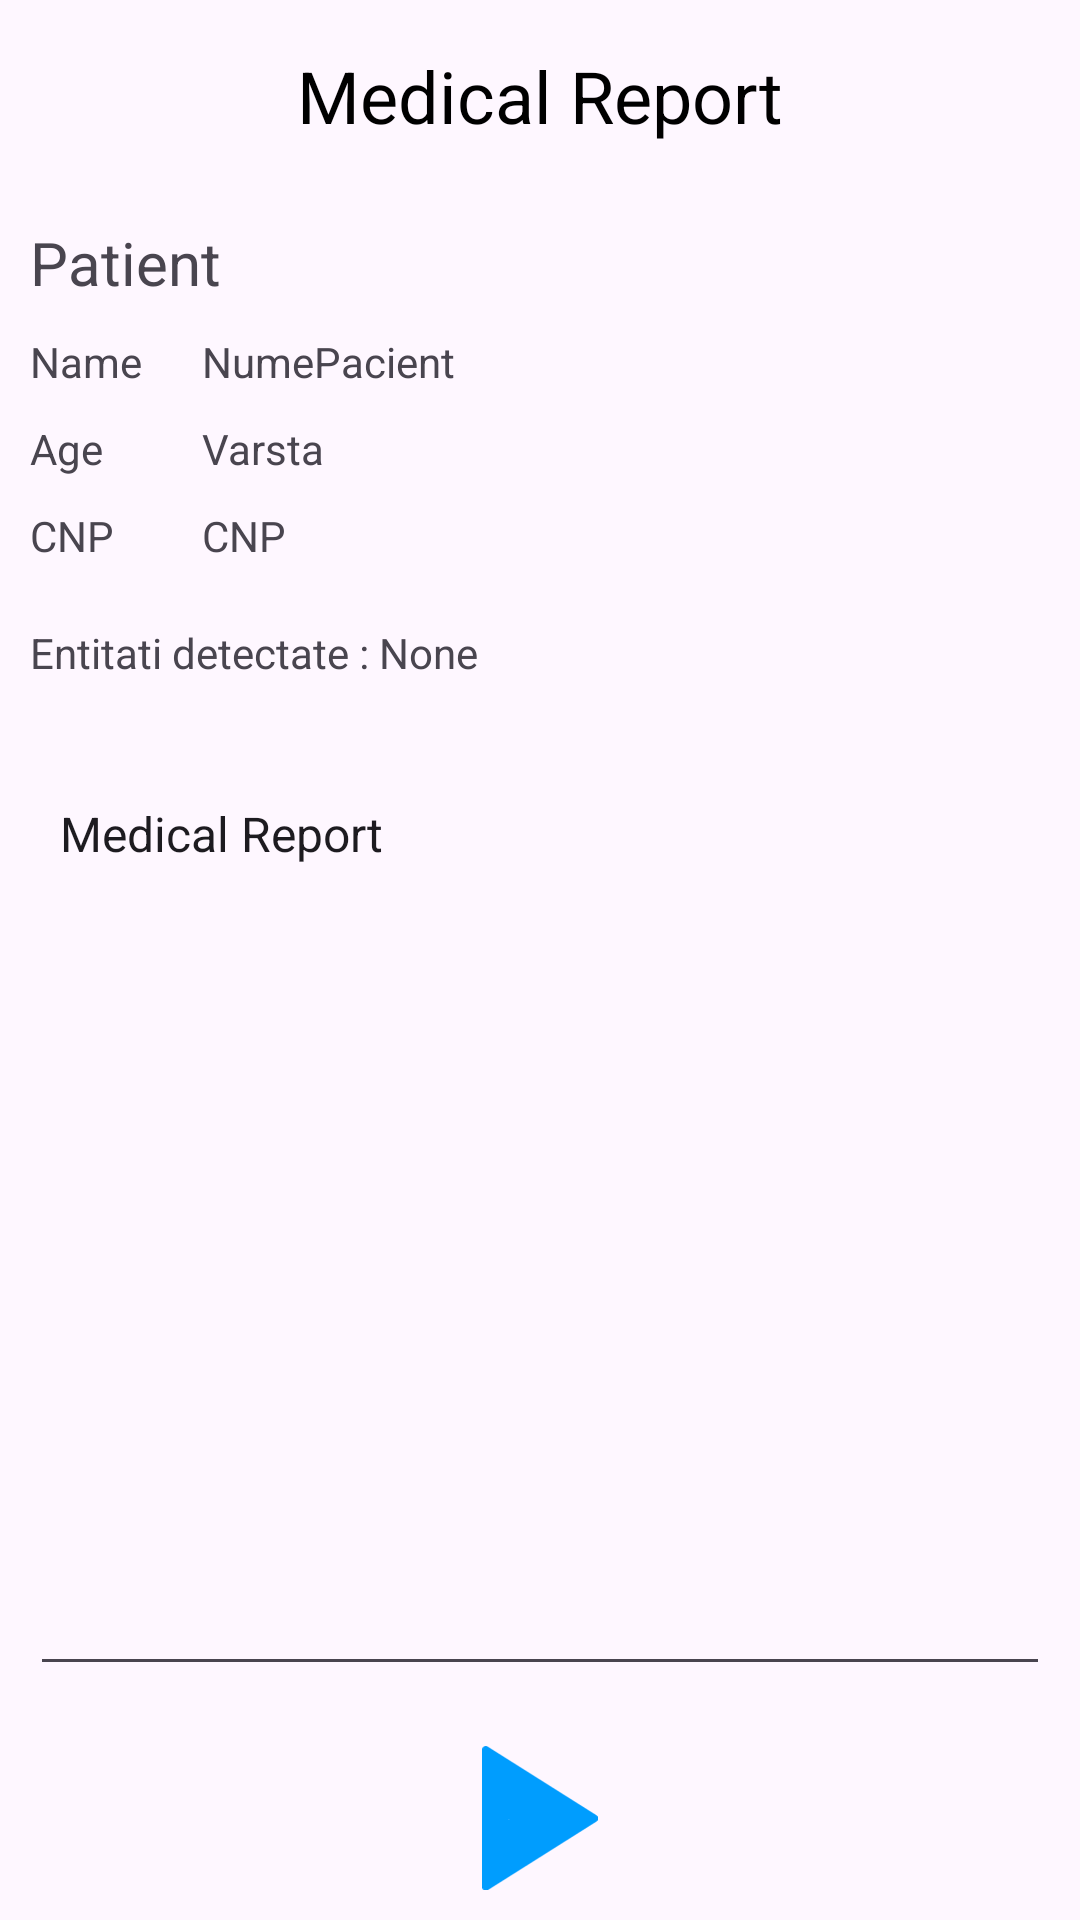

Icon click points for this 1080x1920 phone screenshot, format point (x, y):
avd play to pause: point (540, 1818)
